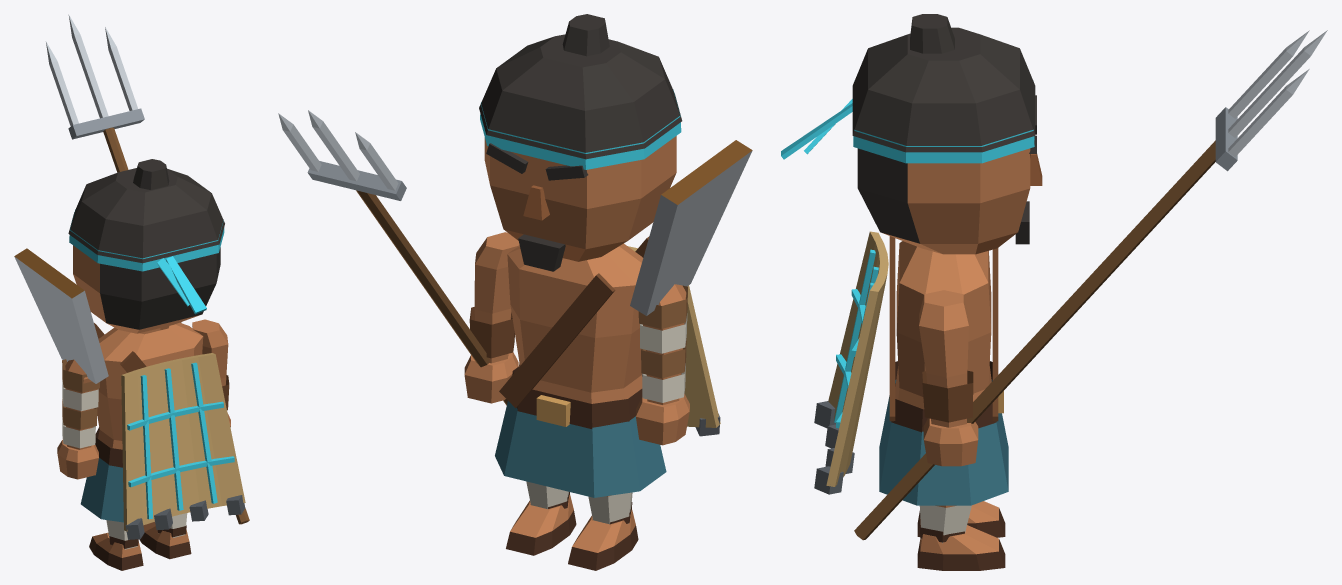
File: CH_NetWeaver.fbx
3 views of the same model, side by side, from view 1: azimuth 30°, elevation 25°; view 2: azimuth 150°, elevation 25°; view 3: azimuth 270°, elevation 25° (orthographic). The views are drawn at different scales.
Visible parts, largest first — view 1: Body, Head, ArmR, ArmL, LegL, LegR; view 2: Body, Head, ArmR, ArmL, LegL, LegR; view 3: Head, Body, ArmR, LegR, LegL.
Part boxes in pixels (x1=…): Body: x1=14, y1=248, x2=245, y2=539; Head: x1=68, y1=159, x2=224, y2=333; ArmR: x1=46, y1=14, x2=249, y2=524; ArmL: x1=57, y1=359, x2=99, y2=479; LegL: x1=89, y1=520, x2=143, y2=570; LegR: x1=139, y1=513, x2=191, y2=559; Body: x1=495, y1=140, x2=752, y2=497; Head: x1=479, y1=14, x2=682, y2=271; ArmR: x1=278, y1=110, x2=519, y2=405; ArmL: x1=636, y1=284, x2=689, y2=445; LegL: x1=568, y1=492, x2=638, y2=570; LegR: x1=506, y1=481, x2=576, y2=555; Head: x1=781, y1=14, x2=1042, y2=254; Body: x1=814, y1=231, x2=1008, y2=505; ArmR: x1=854, y1=30, x2=1327, y2=540; LegR: x1=917, y1=505, x2=1005, y2=570; LegL: x1=917, y1=501, x2=1005, y2=537.
Size of the model in its own units: 0.8955 by 1.56 by 1.76.
